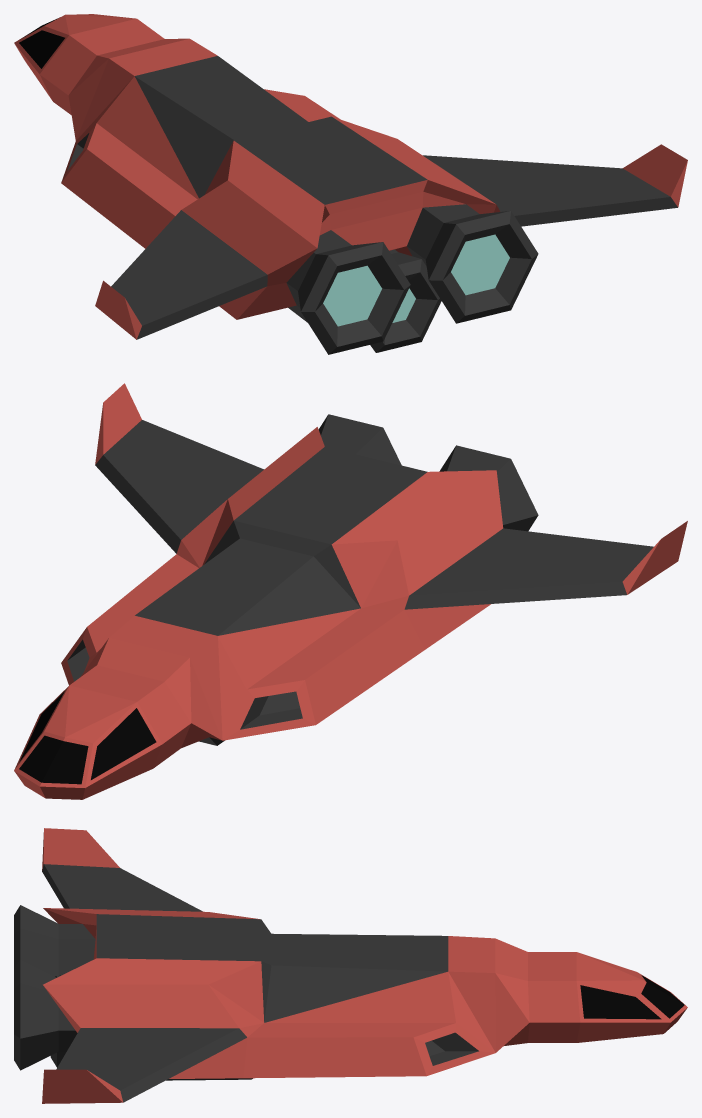
Rendered from Ship_01.fbx.
3 views of the same model, one above another, from view 1: azimuth 30°, elevation 25°; view 2: azimuth 150°, elevation 25°; view 3: azimuth 270°, elevation 25° (orthographic). The views are drawn at different scales.
Visible parts, largest first — view 1: Ship_01; view 2: Ship_01; view 3: Ship_01.
Boxes of the visible parts, bbox=[...] form: Ship_01: bbox=[14, 14, 687, 354]; Ship_01: bbox=[14, 383, 687, 799]; Ship_01: bbox=[14, 828, 687, 1103].
Bounding box in the file's own units: 416 × 491 × 105.
